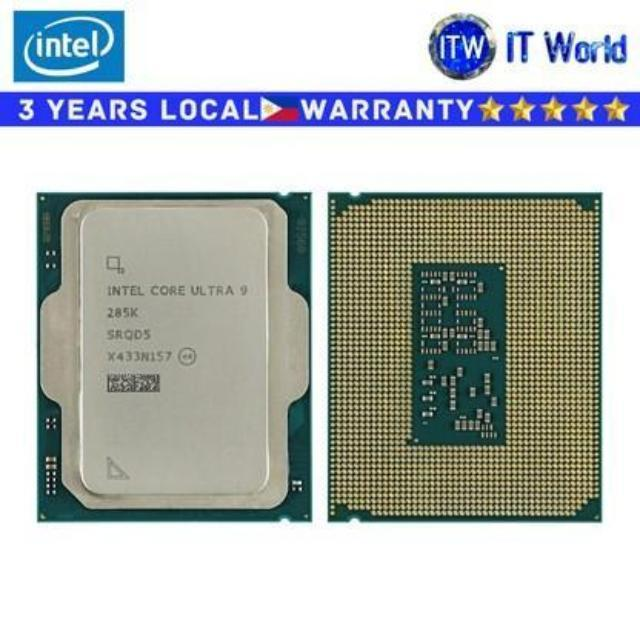CPU: (29, 195, 311, 523), (333, 192, 601, 526)
